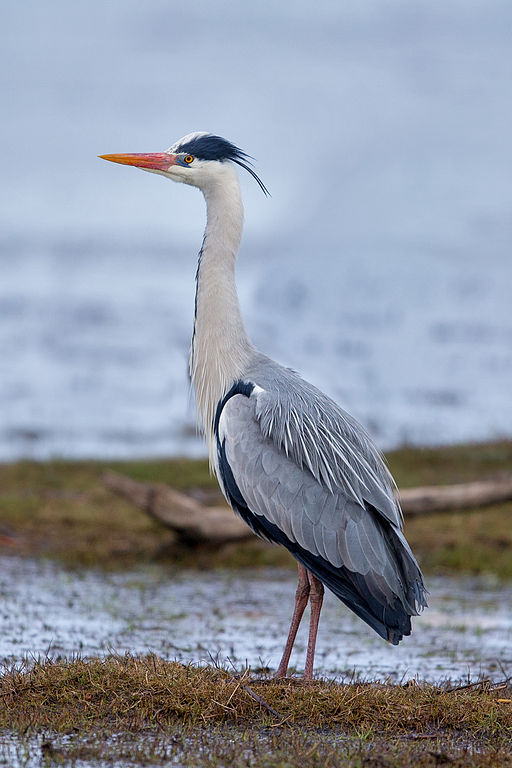heron: (95, 131, 432, 681)
